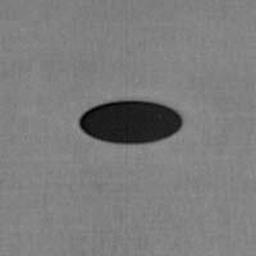Punching: (78, 100, 183, 147)
